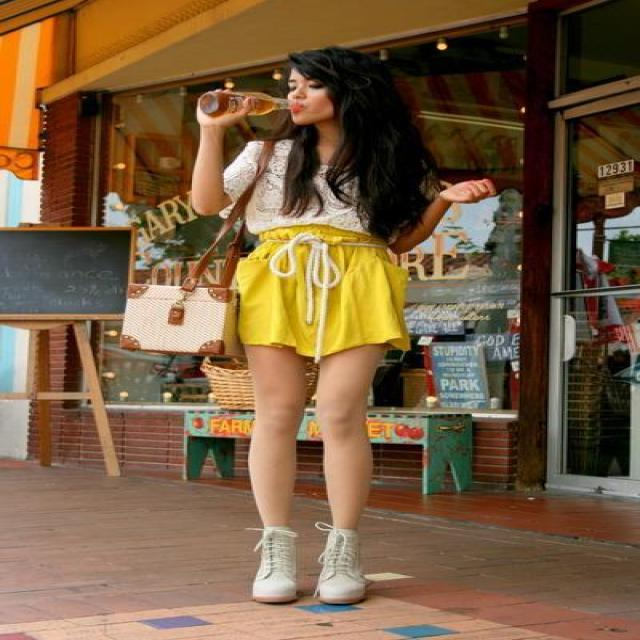bag: (121, 192, 262, 353)
shirt: (224, 140, 362, 231)
shoe: (251, 514, 365, 599)
skirt: (240, 223, 400, 363)
